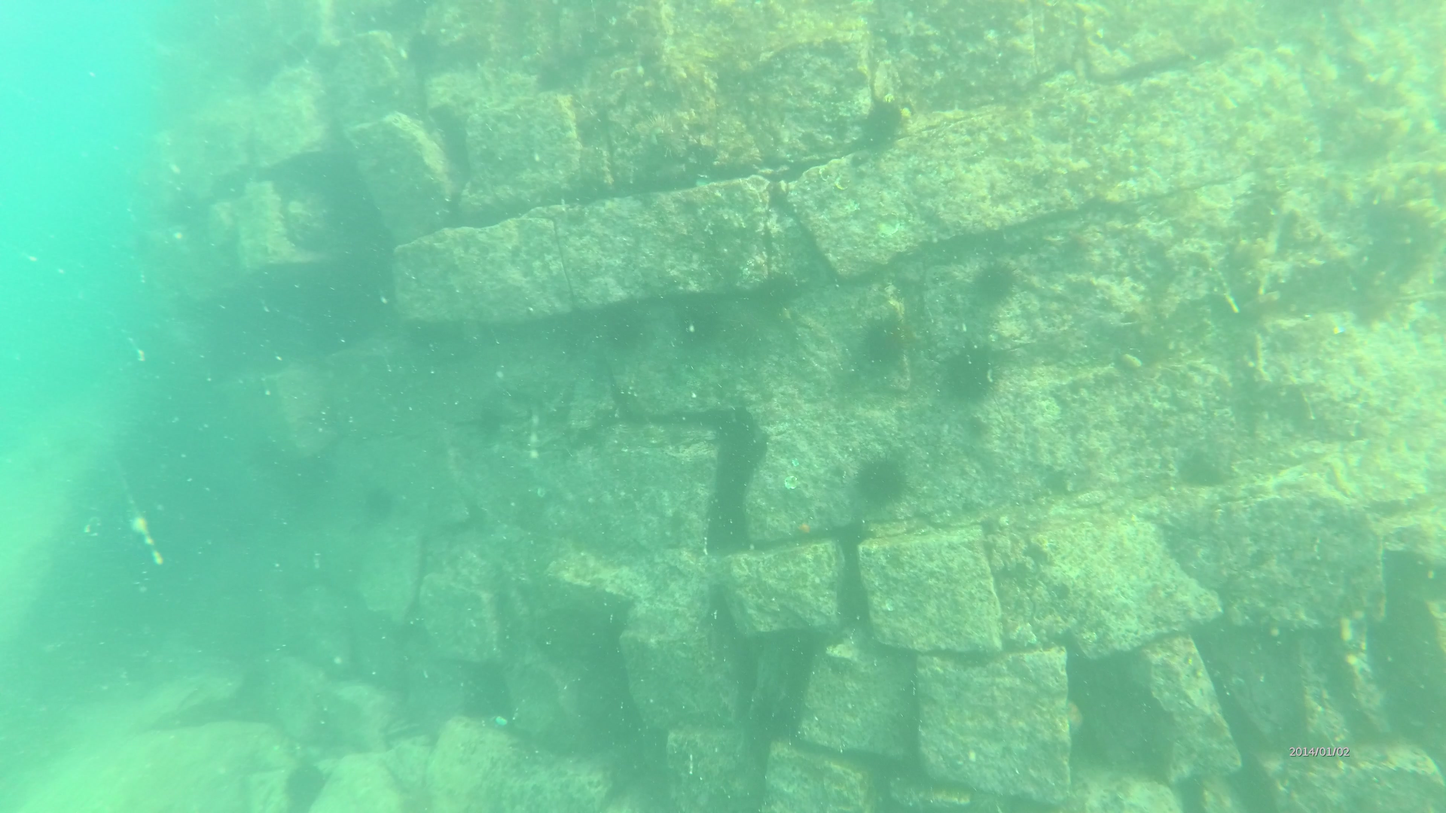starfish: (951, 341, 1002, 402), (857, 450, 910, 502), (969, 261, 1020, 311), (283, 761, 334, 808), (855, 103, 906, 149), (864, 317, 910, 367), (607, 310, 653, 353), (717, 405, 760, 448), (677, 308, 721, 349), (365, 485, 399, 521)
